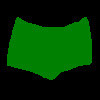mutande: (7, 16, 92, 80)
